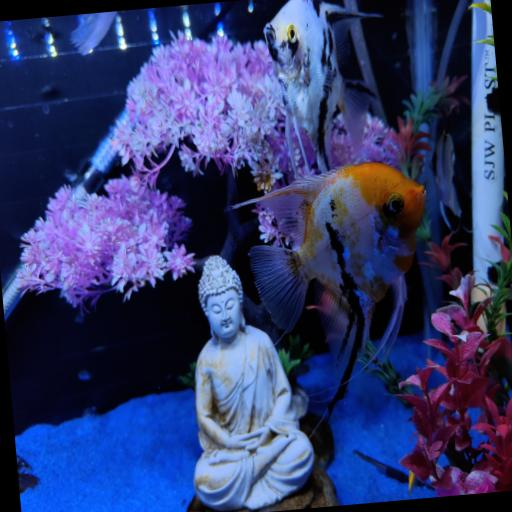Fish: (235, 162, 425, 412), (264, 0, 378, 176), (71, 11, 116, 55)
